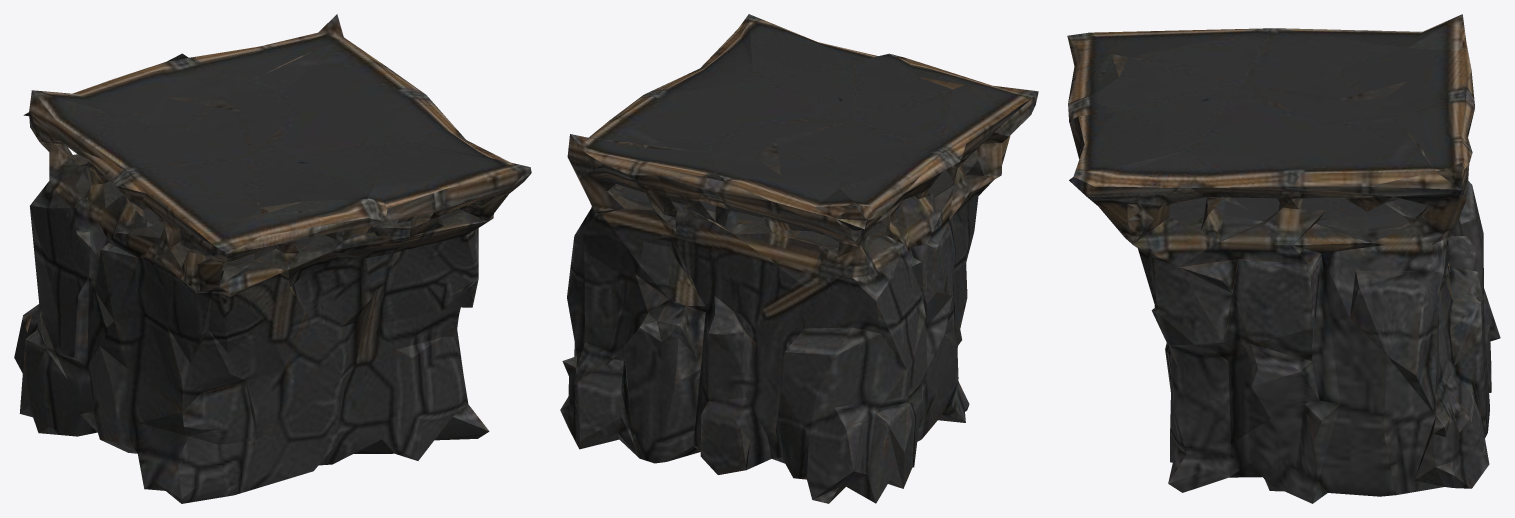
The model's file is stunt-cliff-deck.lod.glb.
3 renders of one model, left to right at view 1: azimuth 30°, elevation 25°; view 2: azimuth 150°, elevation 25°; view 3: azimuth 270°, elevation 25°, orthographic. The views are drawn at different scales.
Visible parts, largest first — view 1: output_unwrapped; view 2: output_unwrapped; view 3: output_unwrapped.
Boxes of the visible parts, box(x1,y1,x2,y2) form: output_unwrapped: box(14, 14, 531, 503); output_unwrapped: box(560, 14, 1038, 503); output_unwrapped: box(1067, 14, 1500, 503).
Bounding box in the file's own units: 1.75 × 1.5 × 1.76.
1 material, 1 textured.
